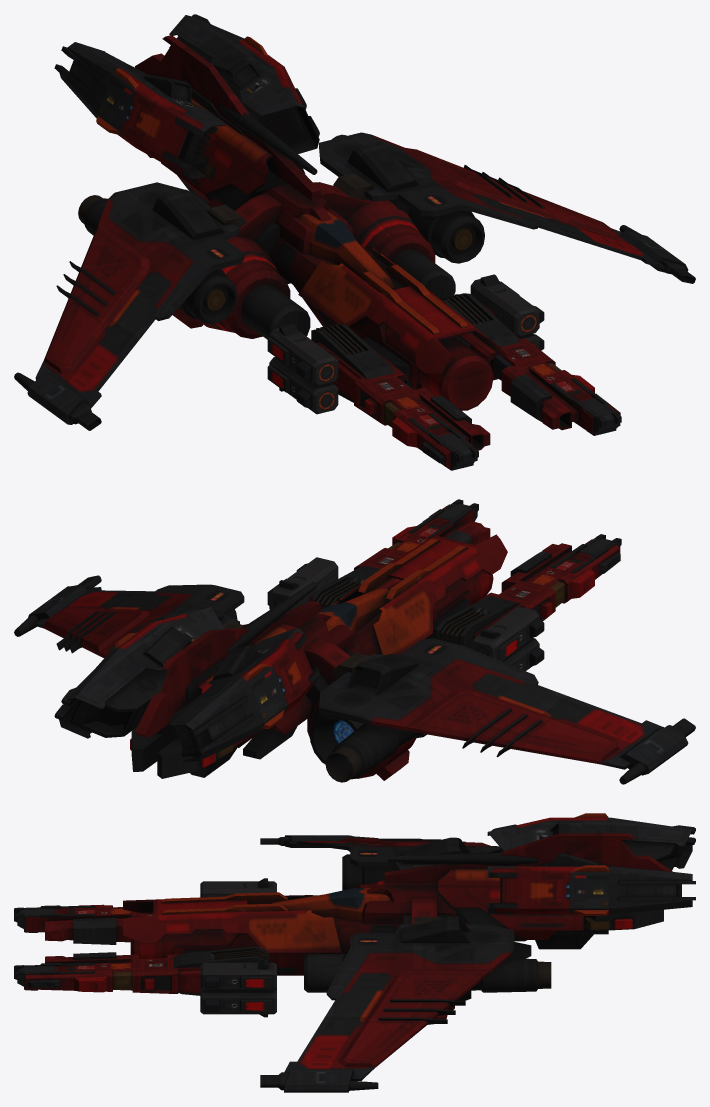
The model's file is drax22.glb.
3 views of the same model, one above another, from view 1: azimuth 30°, elevation 25°; view 2: azimuth 150°, elevation 25°; view 3: azimuth 270°, elevation 25° (orthographic). The views are drawn at different scales.
Parts seen in each view (by area): view 1: GXX_Cockpit-A001, GXX_L-Wing-B002, GXX_L-Wing-B001, GXX_L-Prop-B002, GXX_L-Prop-F002, GXX_L-Prop-F001, GXX_L-Prop-B001, GXX_L-M-Launcher002, GXX_L-M-Launcher001; view 2: GXX_Cockpit-A001, GXX_L-Wing-B002, GXX_L-Prop-B002, GXX_L-Prop-B001, GXX_L-Wing-B001, GXX_L-Prop-F002, GXX_L-Prop-F001, GXX_L-M-Launcher002, GXX_L-M-Launcher001; view 3: GXX_Cockpit-A001, GXX_L-Wing-B001, GXX_L-Prop-B001, GXX_L-Prop-F001, GXX_L-Prop-B002, GXX_L-Wing-B002, GXX_L-M-Launcher001, GXX_L-Prop-F002, GXX_L-M-Launcher002.
Part boxes in pixels (x1,y1,x2,y2): GXX_Cockpit-A001: (135,35,507,410); GXX_L-Wing-B002: (14,182,247,430); GXX_L-Wing-B001: (319,132,695,283); GXX_L-Prop-B002: (54,42,226,179); GXX_L-Prop-F002: (311,323,490,470); GXX_L-Prop-F001: (440,293,621,435); GXX_L-Prop-B001: (169,14,319,153); GXX_L-M-Launcher002: (267,323,338,414); GXX_L-M-Launcher001: (470,274,544,350); GXX_Cockpit-A001: (130,524,507,780); GXX_L-Wing-B002: (319,638,695,784); GXX_L-Prop-B002: (169,627,319,761); GXX_L-Prop-B001: (54,607,224,738); GXX_L-Wing-B001: (14,575,244,658); GXX_L-Prop-F002: (436,534,621,648); GXX_L-Prop-F001: (309,499,490,609); GXX_L-M-Launcher002: (470,606,544,671); GXX_L-M-Launcher001: (267,557,338,611); GXX_Cockpit-A001: (123,833,672,1019); GXX_L-Wing-B001: (260,916,551,1092); GXX_L-Prop-B001: (487,853,695,915); GXX_L-Prop-F001: (14,946,268,995); GXX_L-Prop-B002: (487,813,695,870); GXX_L-Wing-B002: (260,835,499,890); GXX_L-M-Launcher001: (200,959,276,1017); GXX_L-Prop-F002: (14,904,153,944); GXX_L-M-Launcher002: (200,878,276,897).
Bounding box in the file's own units: 13.84 × 3.74 × 15.87.
2 materials, 2 textured.
